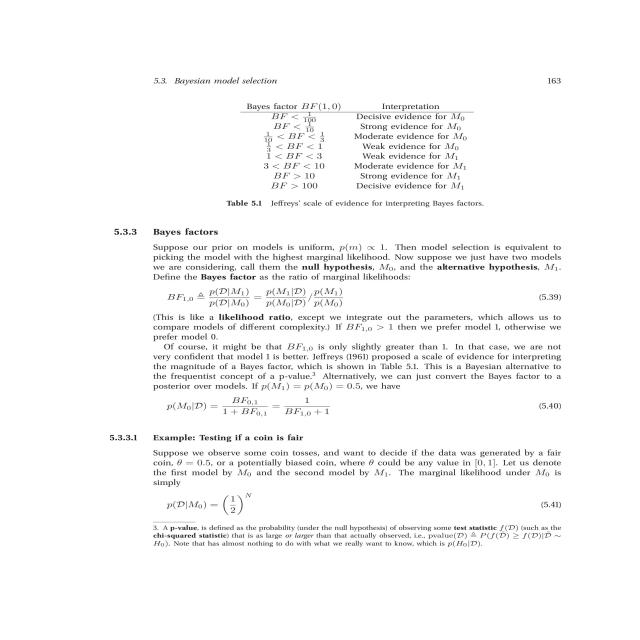diagram: (118, 69, 563, 236)
